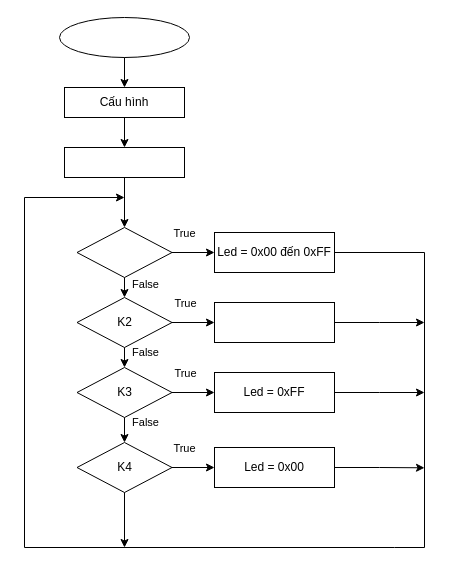
This 450x573 diagram has some shape labels left out. The shapes that lost their labels are listed below. From the top down, each one's box as (x1, y1, x2, y2) in pixels, then its label:
(58, 16, 190, 58): Begin
(64, 146, 184, 178): Chớp led 5 lần
(76, 226, 172, 278): K1
(214, 302, 334, 342): Led = 0xFF đến 0x00
